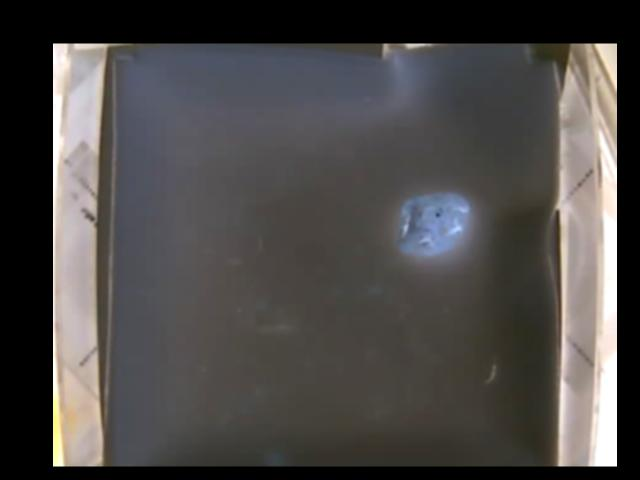Pebble: (401, 193, 468, 256)
